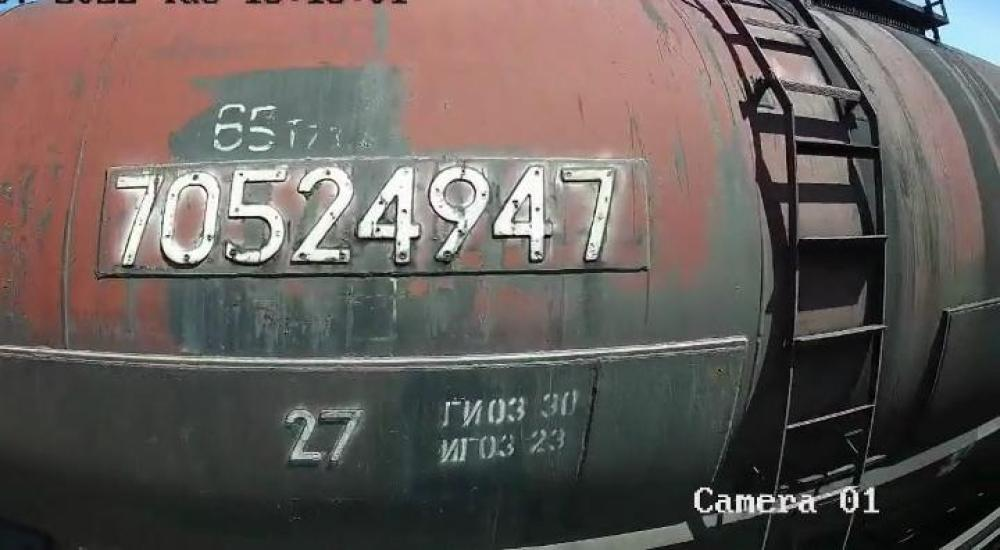Wagon-number: (110, 158, 618, 271)
